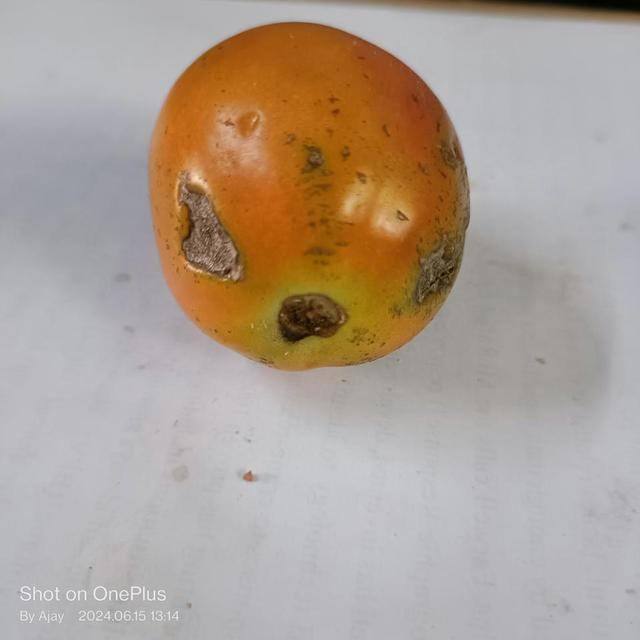Bacterial Spot Fruit: (29, 58, 288, 172)
